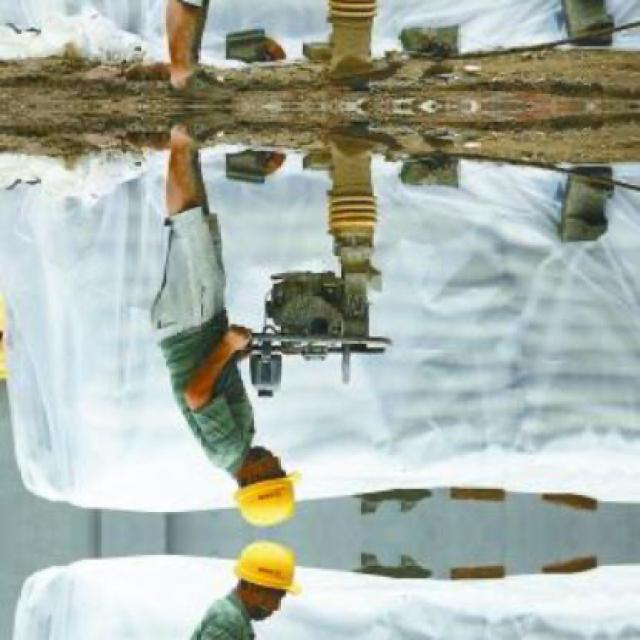con casco: (202, 416, 350, 518)
